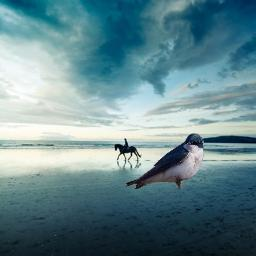Swallow: (124, 133, 204, 189)
